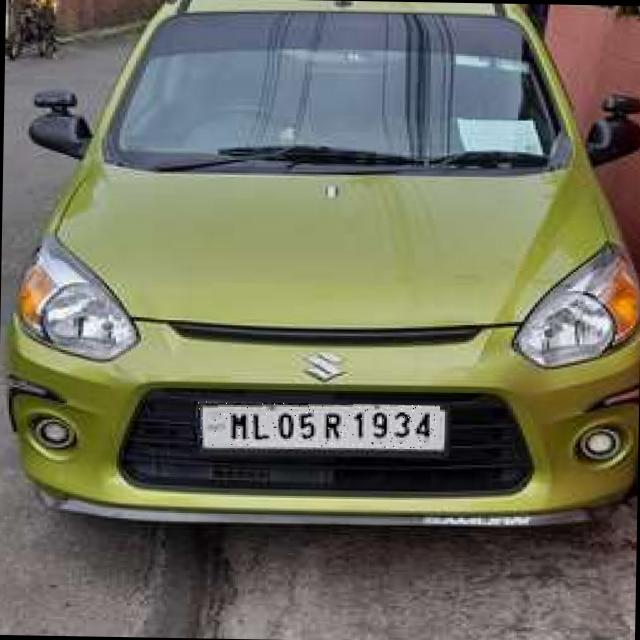Plate: (195, 402, 441, 450)
